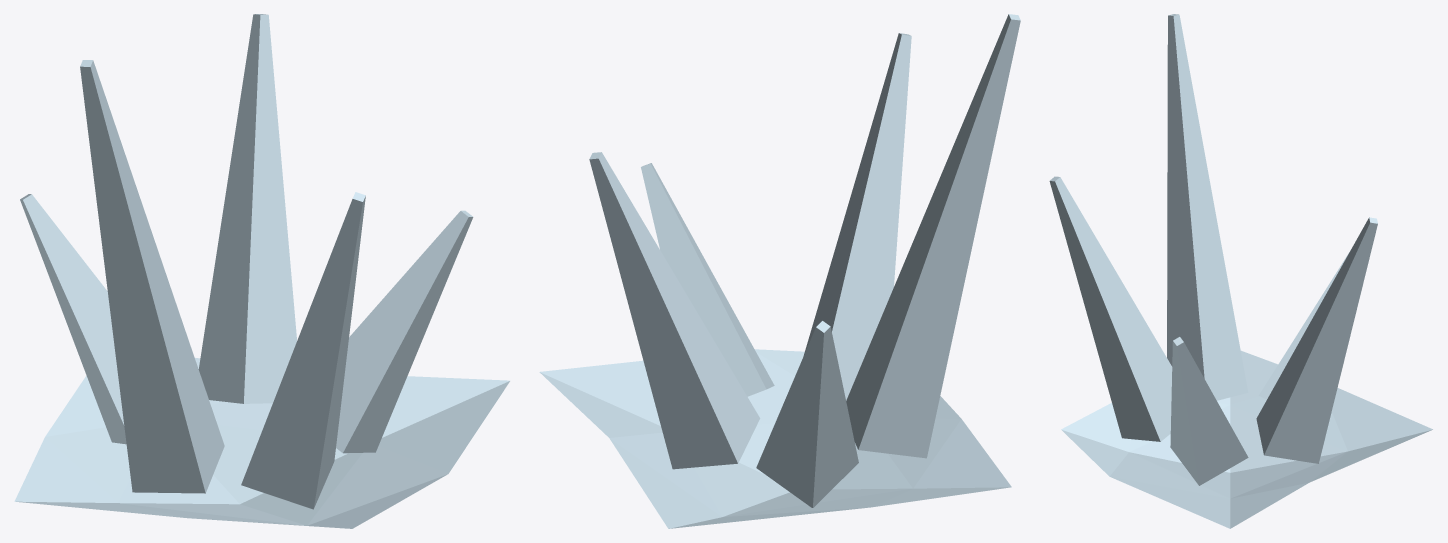
File: ice_shard_v32.glb
The picture shows the model from 3 angles, left to right: view 1: azimuth 30°, elevation 25°; view 2: azimuth 150°, elevation 25°; view 3: azimuth 270°, elevation 25°; orthographic projection. The views are drawn at different scales.
Visible parts, largest first — view 1: lod0; view 2: lod0; view 3: lod0.
Part boxes in pixels (left/top/right/bottom): lod0: left=14, top=14, right=509, bottom=528; lod0: left=539, top=14, right=1020, bottom=528; lod0: left=1049, top=14, right=1432, bottom=528.
Size of what is drawn, in the model's own units: 0.7382 by 0.7344 by 0.657.
